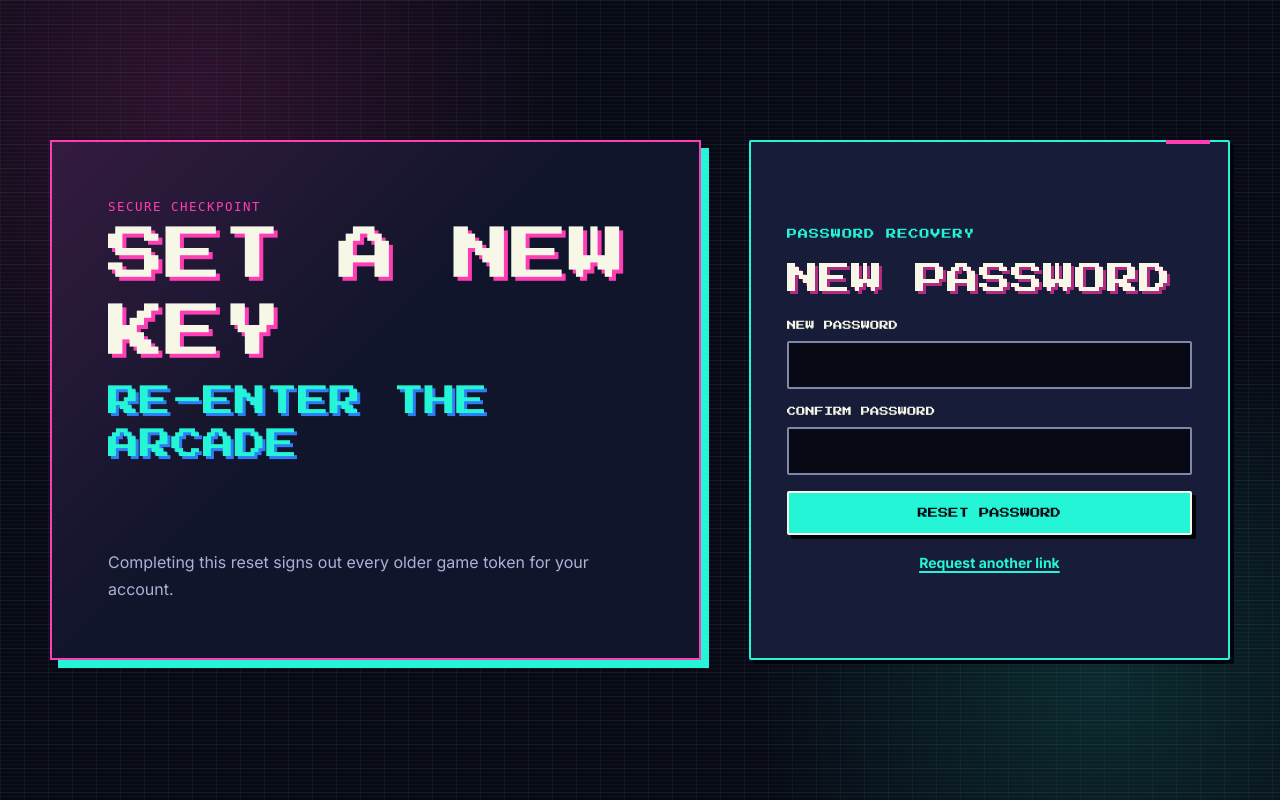
Scenario: public and shared page states › does not submit a reset when password confirmation differs
Type "new-arcade-pass" into the password field labelled "New password" at [989, 365], box [787,341,1192,389]
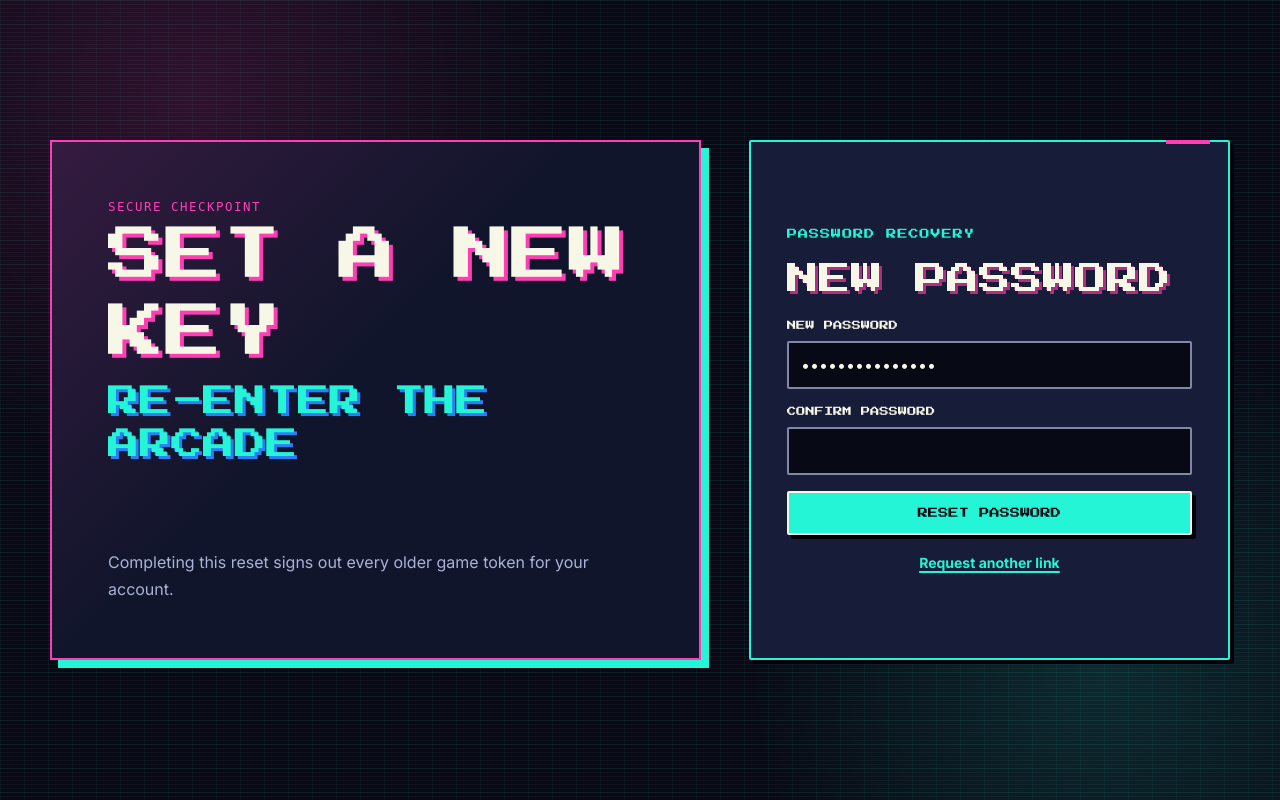
Type "different-pass" into the password field labelled "Confirm password" at [989, 451], box [787,427,1192,475]
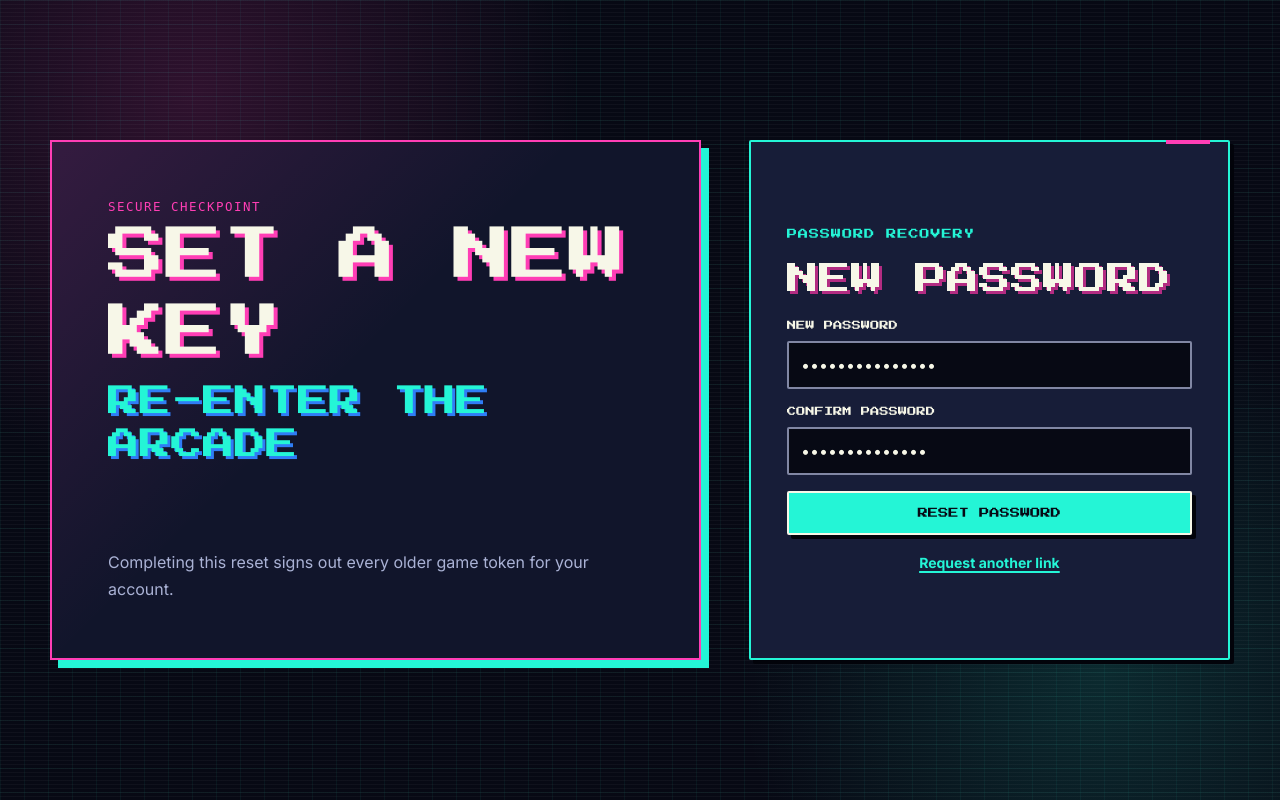
Click the button "Reset password" at [989, 513], box [787,491,1192,535]
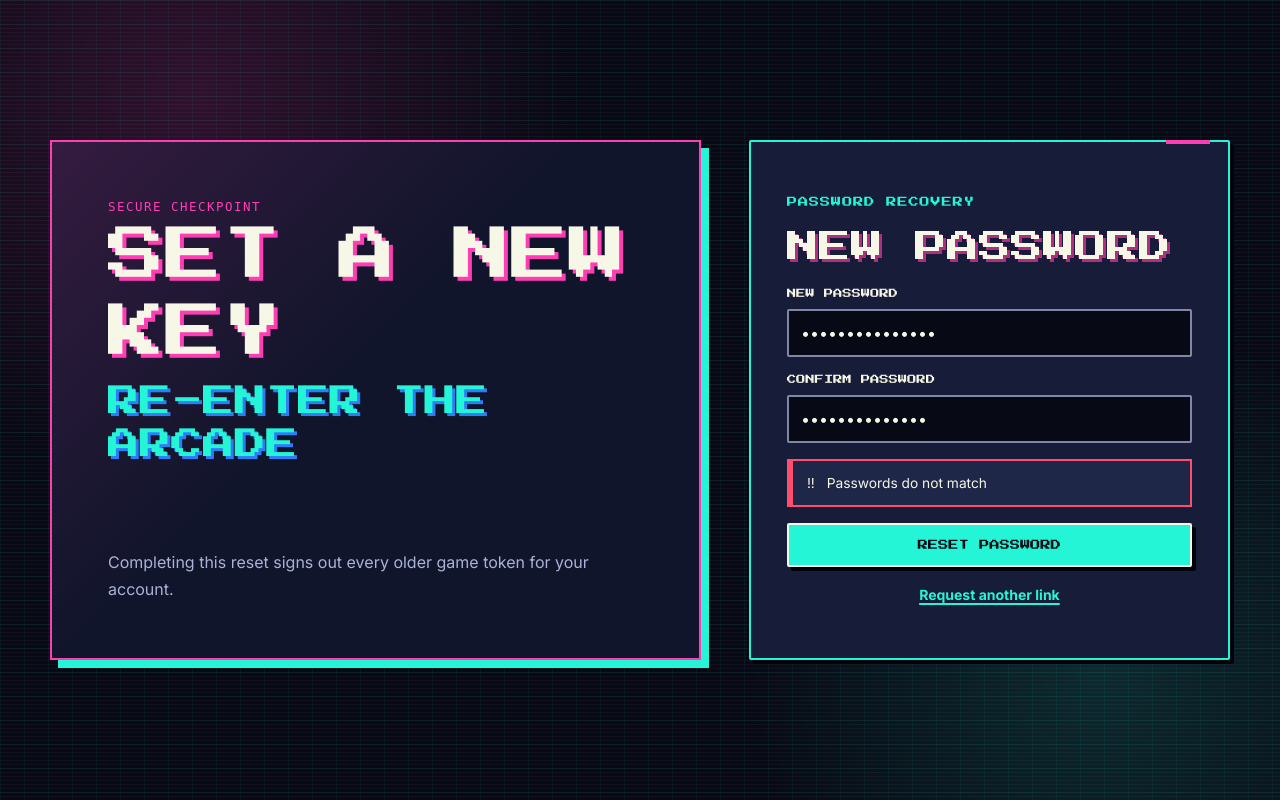
Now the message shows "Passwords do not match", box [827,475,987,491]
